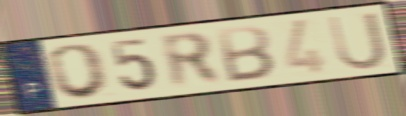4: (283, 16, 329, 78)
5: (109, 35, 160, 94)
B: (215, 23, 278, 84)
O: (46, 41, 113, 101)
R: (157, 30, 227, 91)
U: (324, 9, 389, 73)
